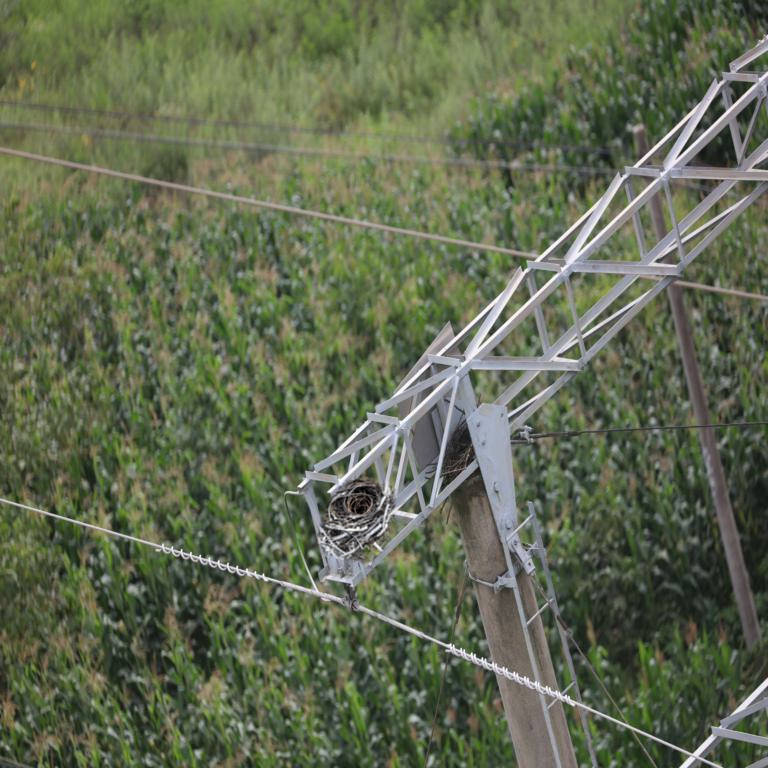nest: (328, 481, 385, 549), (447, 421, 494, 498)
